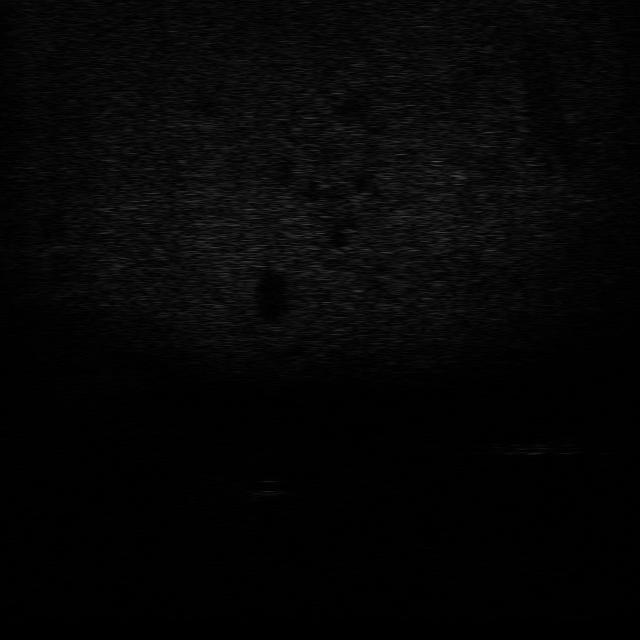ball: (248, 474, 286, 499)
human body: (491, 435, 584, 459)
